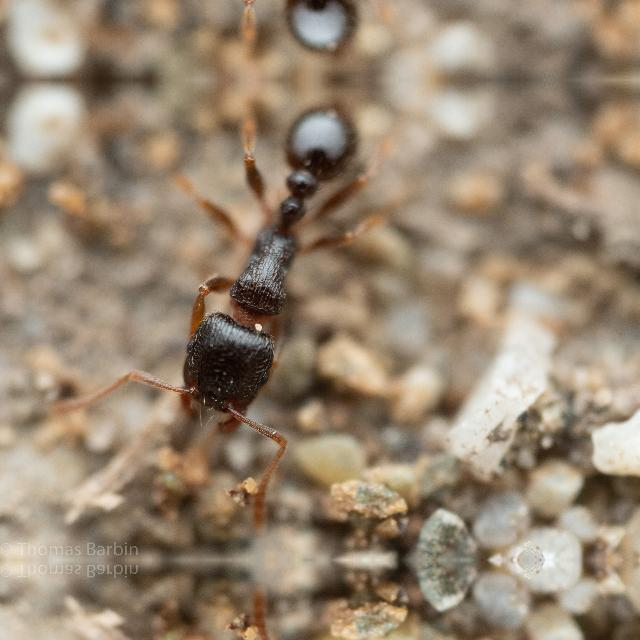Tetramorium: (126, 80, 392, 428), (126, 0, 392, 80)
